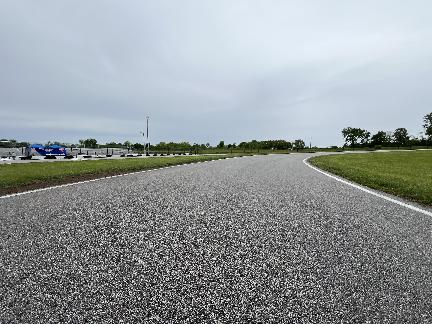Grass: (0, 155, 247, 187), (310, 151, 431, 206)
Lane: (0, 154, 431, 323)
